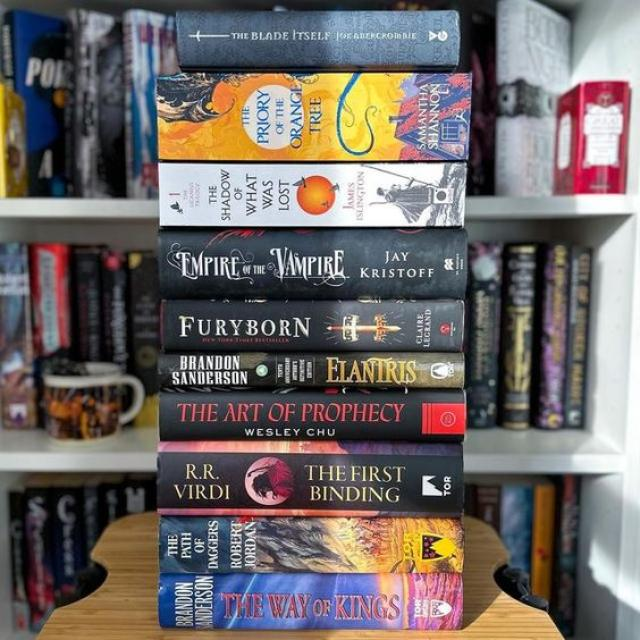book: (156, 74, 470, 160), (159, 444, 461, 518), (160, 232, 466, 300), (160, 163, 465, 224), (160, 574, 462, 629), (159, 519, 464, 570), (176, 13, 458, 67), (160, 302, 464, 351), (159, 394, 464, 441), (156, 355, 464, 388)
